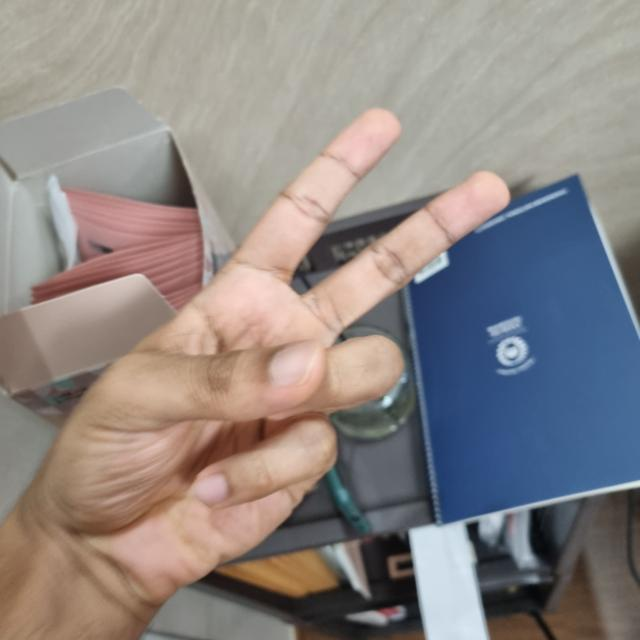Scissors: (16, 113, 502, 600)
